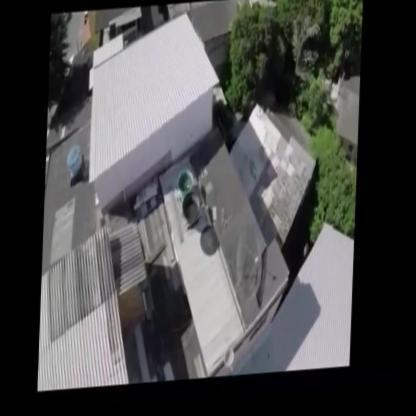agua: (183, 200, 205, 229), (178, 172, 198, 198)
